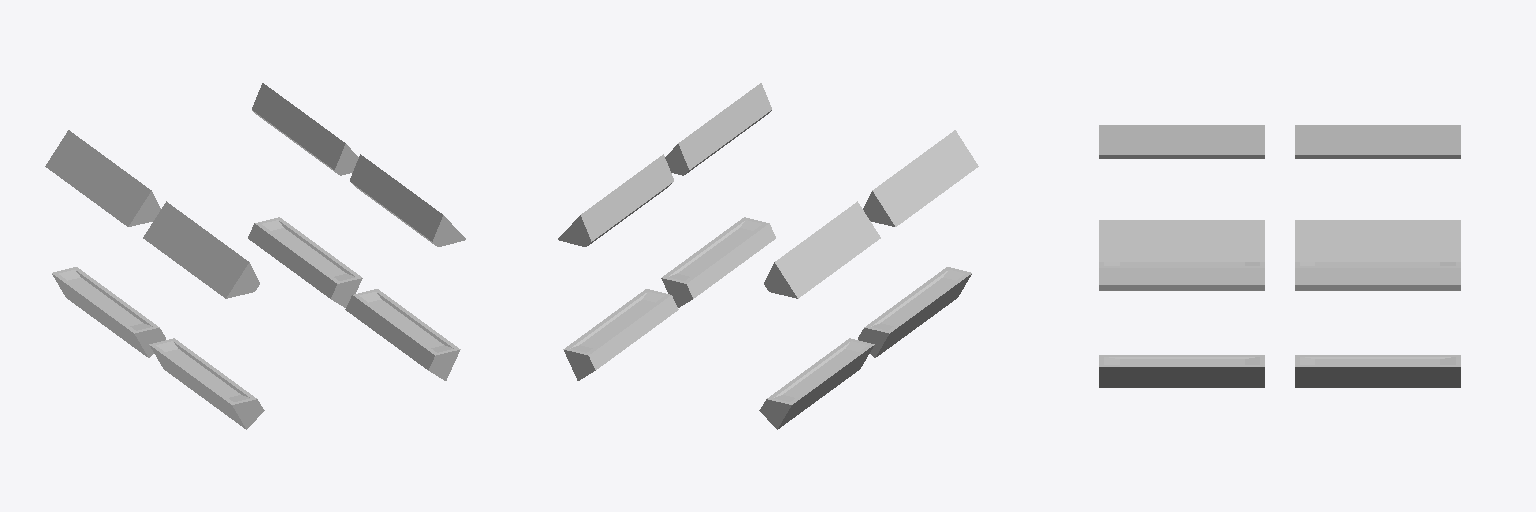
File: cor_beams_horiz.obj
The picture shows the model from 3 angles: view 1: azimuth 30°, elevation 25°; view 2: azimuth 150°, elevation 25°; view 3: azimuth 270°, elevation 25°; orthographic projection.
Visible parts, largest first — view 1: beam_top_Plane.003; view 2: beam_top_Plane.003; view 3: beam_top_Plane.003.
Part boxes in pixels (bbox=[...]): beam_top_Plane.003: bbox=[45, 83, 465, 429]; beam_top_Plane.003: bbox=[558, 83, 978, 429]; beam_top_Plane.003: bbox=[1099, 125, 1460, 387].
Size of the model in its own units: 2.85 by 1.89 by 3.7.